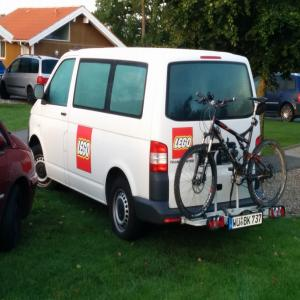Vehicle-registration-plate: (229, 215, 264, 229)
